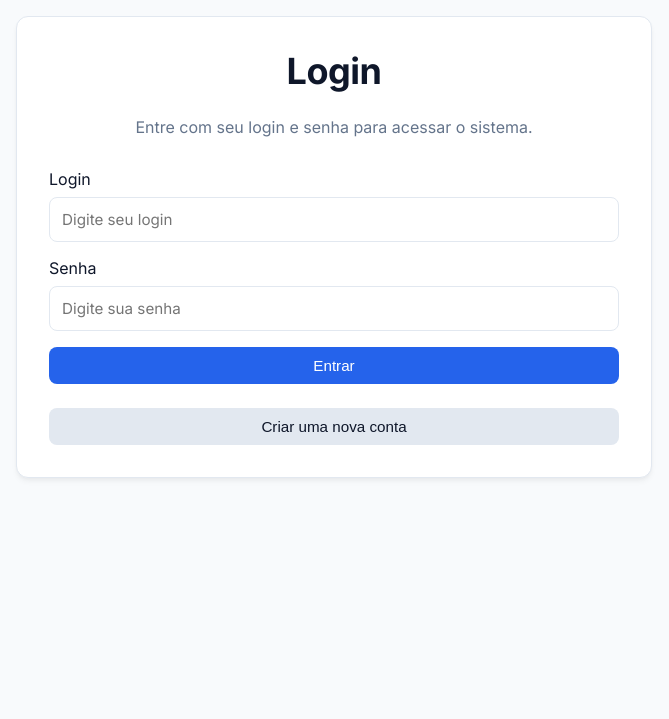
it: E2E 3 - Cadastro de novo usuário › deve exibir erro ao tentar cadastrar com senhas diferentes
The image size is (669, 719).
Click the button "Criar uma nova conta" at {"x": 334, "y": 427}, box x1=49 y1=408 x2=619 y2=445
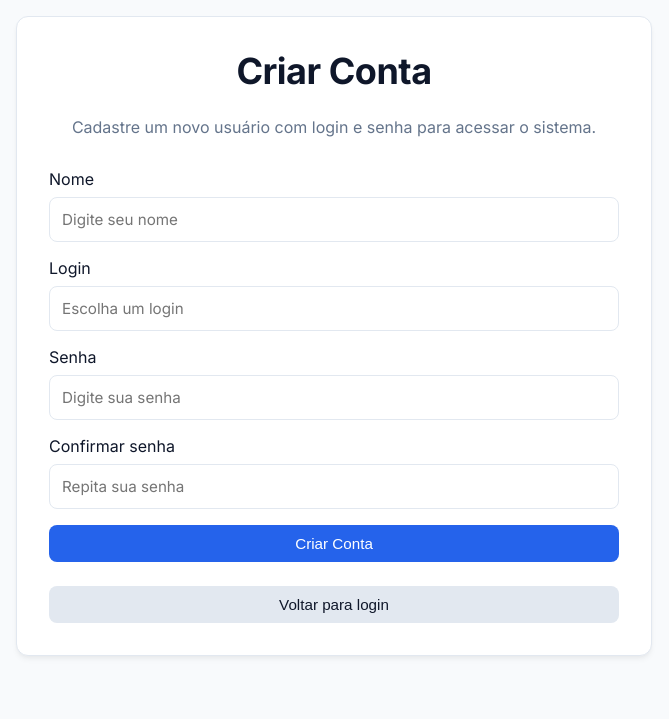
Type "Teste" into the field with placeholder "Digite seu nome" at {"x": 334, "y": 220}, box x1=49 y1=197 x2=619 y2=242
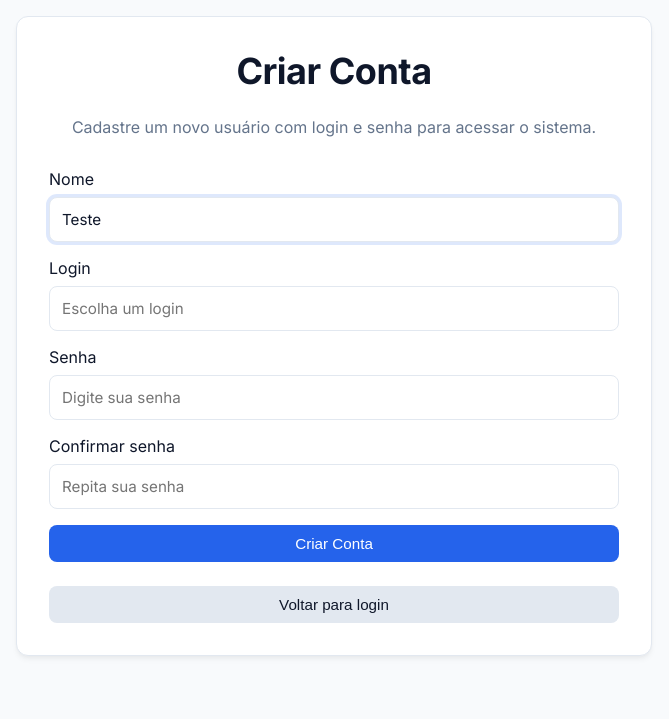
Type "login_teste" into the field with placeholder "Escolha um login" at {"x": 334, "y": 309}, box x1=49 y1=286 x2=619 y2=331
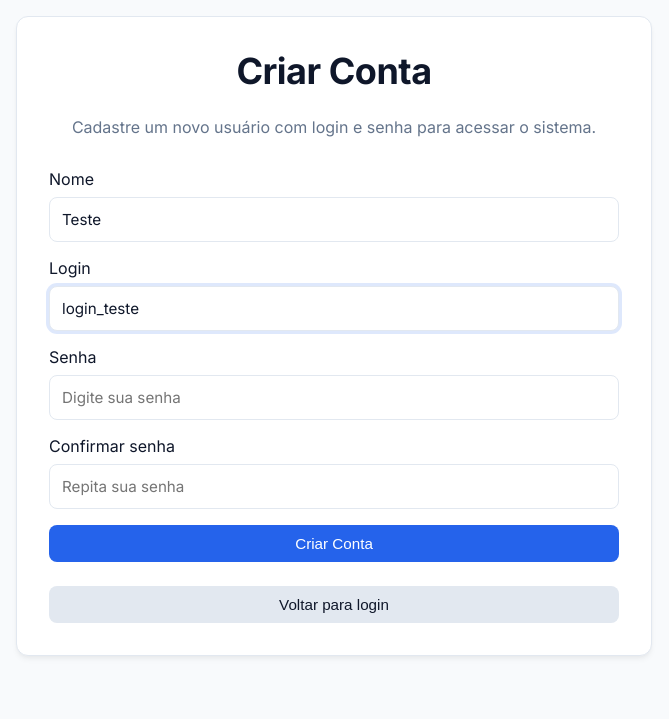
Type "senha123" into the password field with placeholder "Digite sua senha" at {"x": 334, "y": 398}, box x1=49 y1=375 x2=619 y2=420
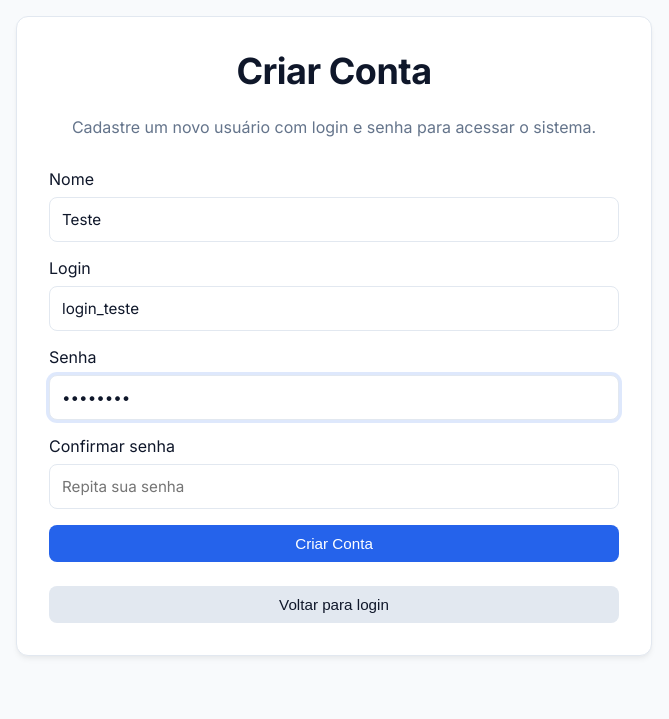
Type "senha_diferente" into the password field with placeholder "Repita sua senha" at {"x": 334, "y": 487}, box x1=49 y1=464 x2=619 y2=509
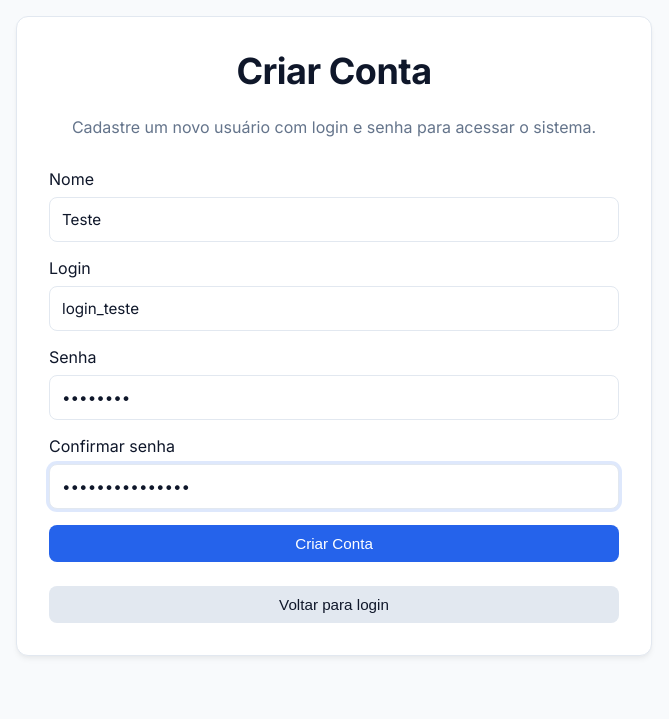
Click the submit button at {"x": 334, "y": 544}, box x1=49 y1=525 x2=619 y2=562
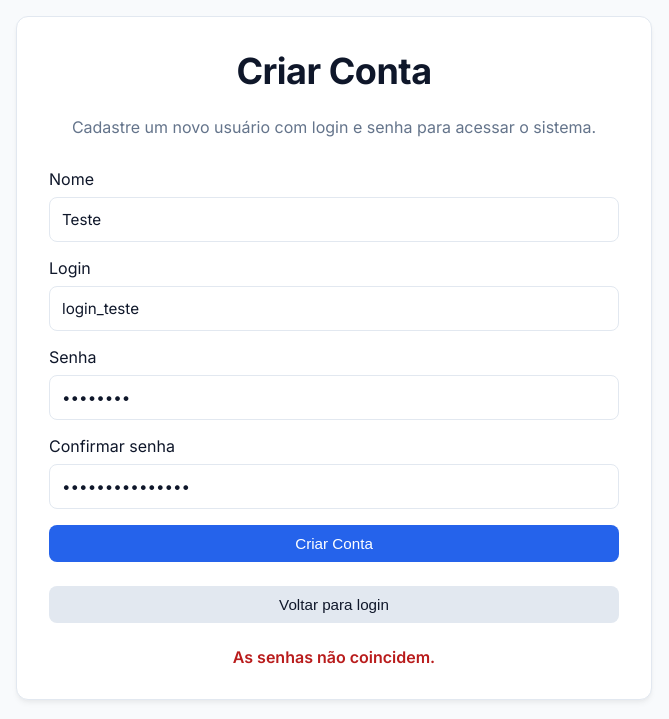
Now the text "As senhas não coincidem" is shown, box x1=233 y1=647 x2=435 y2=667
